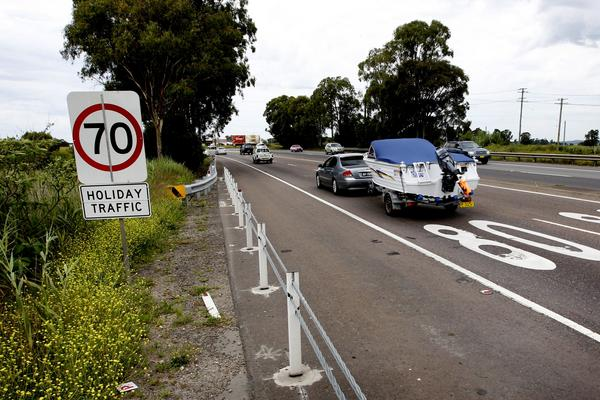Speed_limit_70km: (71, 104, 143, 172)
